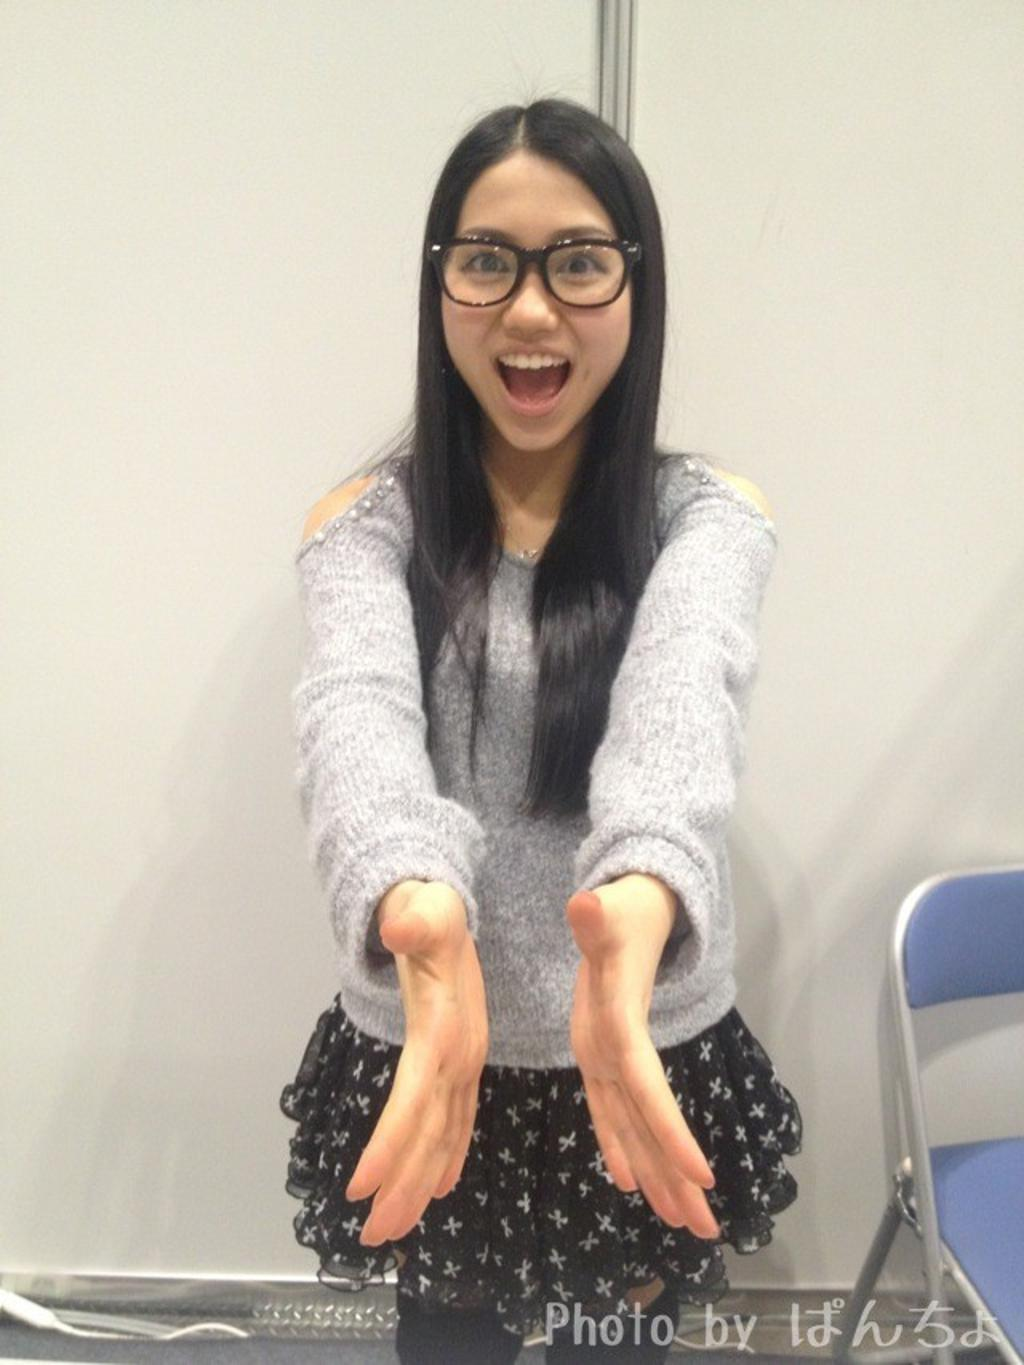face: (443, 155, 632, 454)
